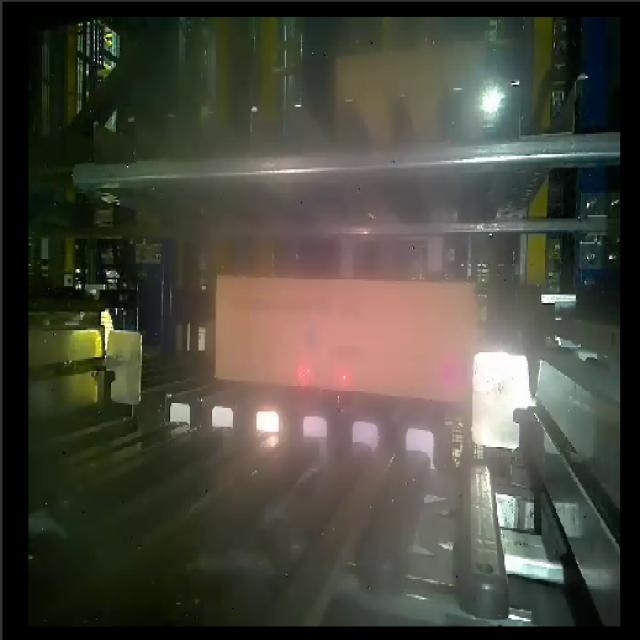box: (215, 275, 483, 405)
